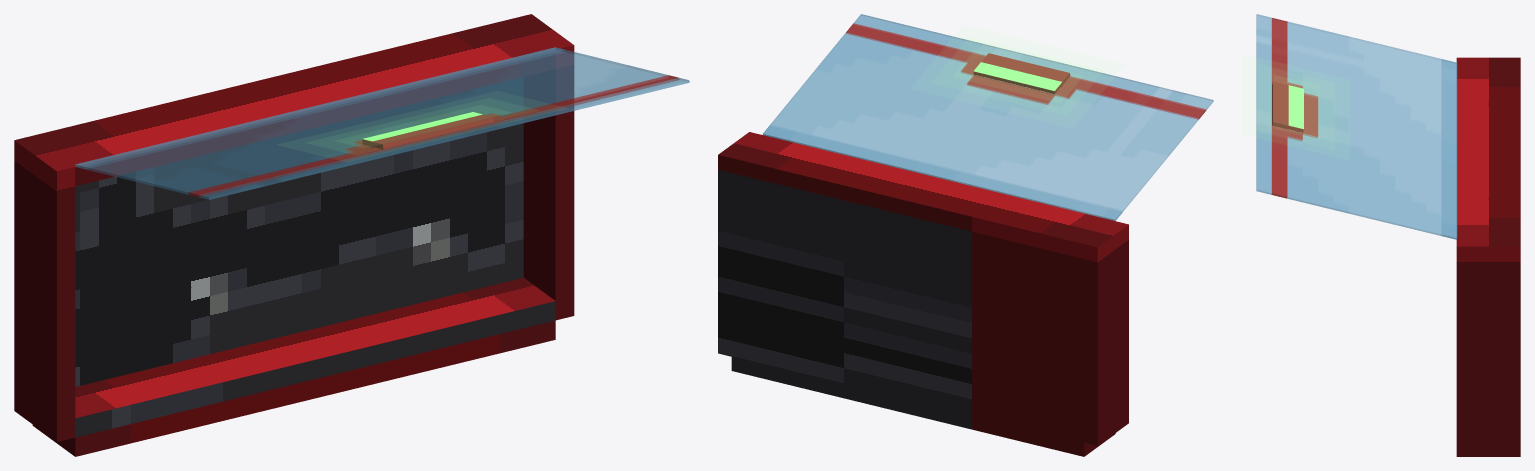
The model's file is fire_axe_cabinet_open_empty.glb.
The picture shows the model from 3 angles, left to right: view 1: azimuth 30°, elevation 25°; view 2: azimuth 150°, elevation 25°; view 3: azimuth 270°, elevation 25°; orthographic projection. The views are drawn at different scales.
Visible parts, largest first — view 1: Continuous_Cabinet_Shell, Closed_Thickness_Door_Glass, Lock_Overlay, Door_Handle; view 2: Continuous_Cabinet_Shell, Closed_Thickness_Door_Glass, Lock_Overlay, Door_Handle; view 3: Closed_Thickness_Door_Glass, Continuous_Cabinet_Shell, Lock_Overlay, Door_Handle.
Boxes of the visible parts, x1,y1,x2,y2 form: Continuous_Cabinet_Shell: (14,14,574,456); Closed_Thickness_Door_Glass: (75,47,689,199); Lock_Overlay: (308,98,538,154); Door_Handle: (362,114,494,149); Continuous_Cabinet_Shell: (718,132,1128,456); Closed_Thickness_Door_Glass: (763,14,1213,220); Lock_Overlay: (932,38,1103,115); Door_Handle: (973,53,1070,94); Closed_Thickness_Door_Glass: (1256,14,1457,239); Continuous_Cabinet_Shell: (1456,57,1520,456); Lock_Overlay: (1258,65,1334,149); Door_Handle: (1272,81,1303,132).
Bounding box in the file's own units: 0.7875 × 0.5347 × 0.4899.
Materials: 4 (4 with a texture image).
